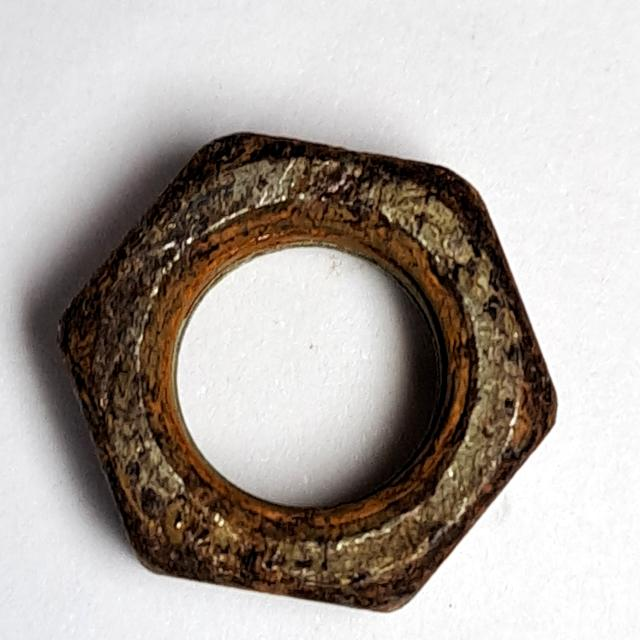Rust: (42, 113, 570, 637)
